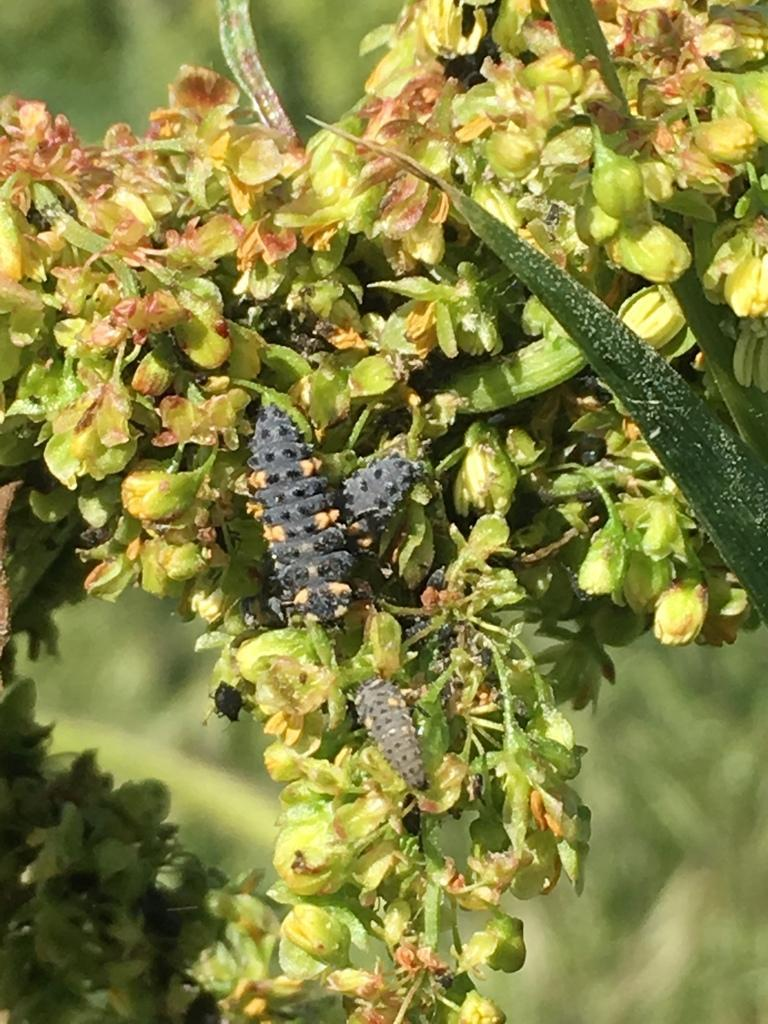ladybug: (242, 398, 364, 637), (318, 450, 424, 561), (348, 674, 435, 795)
